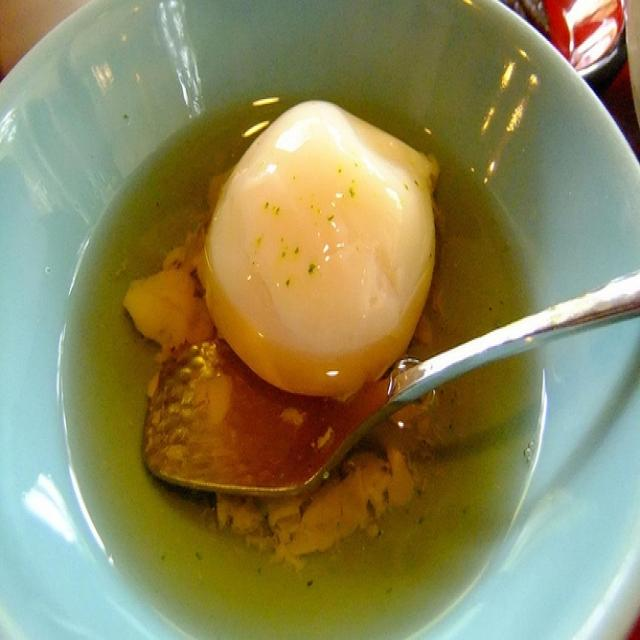豆腐料理: (42, 61, 577, 626)
